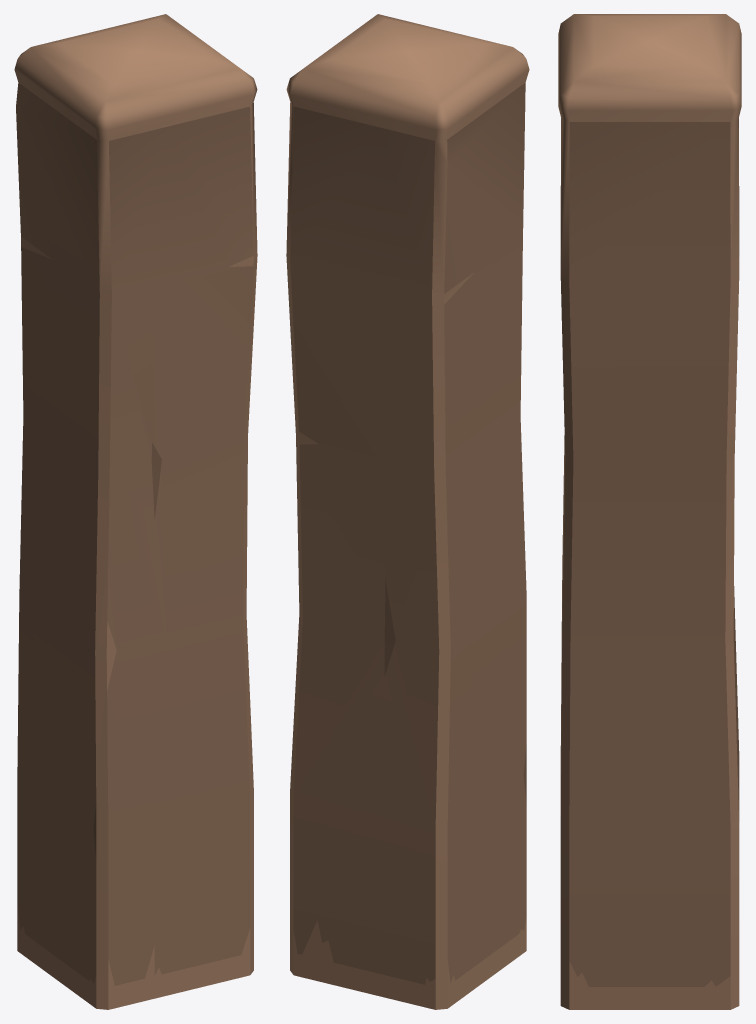
The model's file is FenceEnd.fbx.
The picture shows the model from 3 angles, left to right: view 1: azimuth 30°, elevation 25°; view 2: azimuth 150°, elevation 25°; view 3: azimuth 270°, elevation 25°; orthographic projection. The views are drawn at different scales.
Parts seen in each view (by area): view 1: Fence_End; view 2: Fence_End; view 3: Fence_End.
Part boxes in pixels (bbox=[...]): Fence_End: bbox=[14, 14, 257, 1009]; Fence_End: bbox=[286, 14, 529, 1009]; Fence_End: bbox=[558, 14, 741, 1009].
Bounding box in the file's own units: 17.24 × 91.81 × 16.41.
